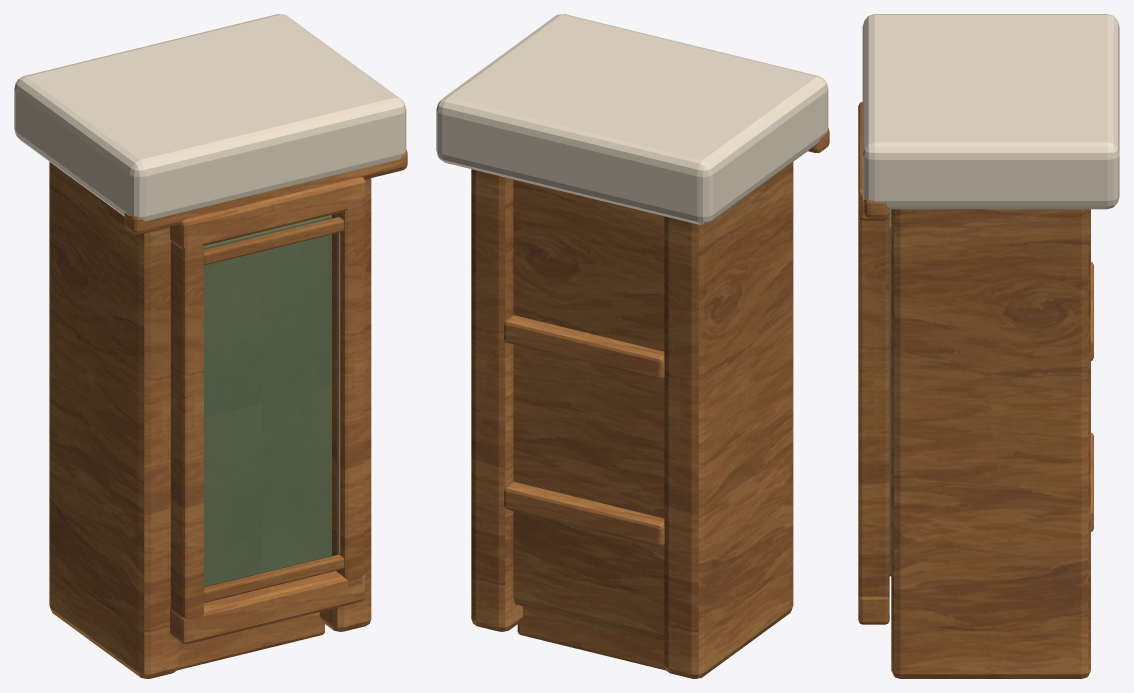
Rendered from WC_CAFE_Counter_Short_A.glb.
3 renders of one model, left to right at view 1: azimuth 30°, elevation 25°; view 2: azimuth 150°, elevation 25°; view 3: azimuth 270°, elevation 25°, orthographic. The views are drawn at different scales.
Visible parts, largest first — view 1: WC_CAFE_Counter_Short_A_HeroServiceMesh; view 2: WC_CAFE_Counter_Short_A_HeroServiceMesh; view 3: WC_CAFE_Counter_Short_A_HeroServiceMesh.
Part boxes in pixels (x1,y1,x2,y2): WC_CAFE_Counter_Short_A_HeroServiceMesh: [14, 14, 407, 678]; WC_CAFE_Counter_Short_A_HeroServiceMesh: [436, 14, 829, 678]; WC_CAFE_Counter_Short_A_HeroServiceMesh: [858, 14, 1119, 678].
Size of the model in its own units: 0.57 by 1.08 by 0.4575.
Materials: 6 (4 with a texture image).
